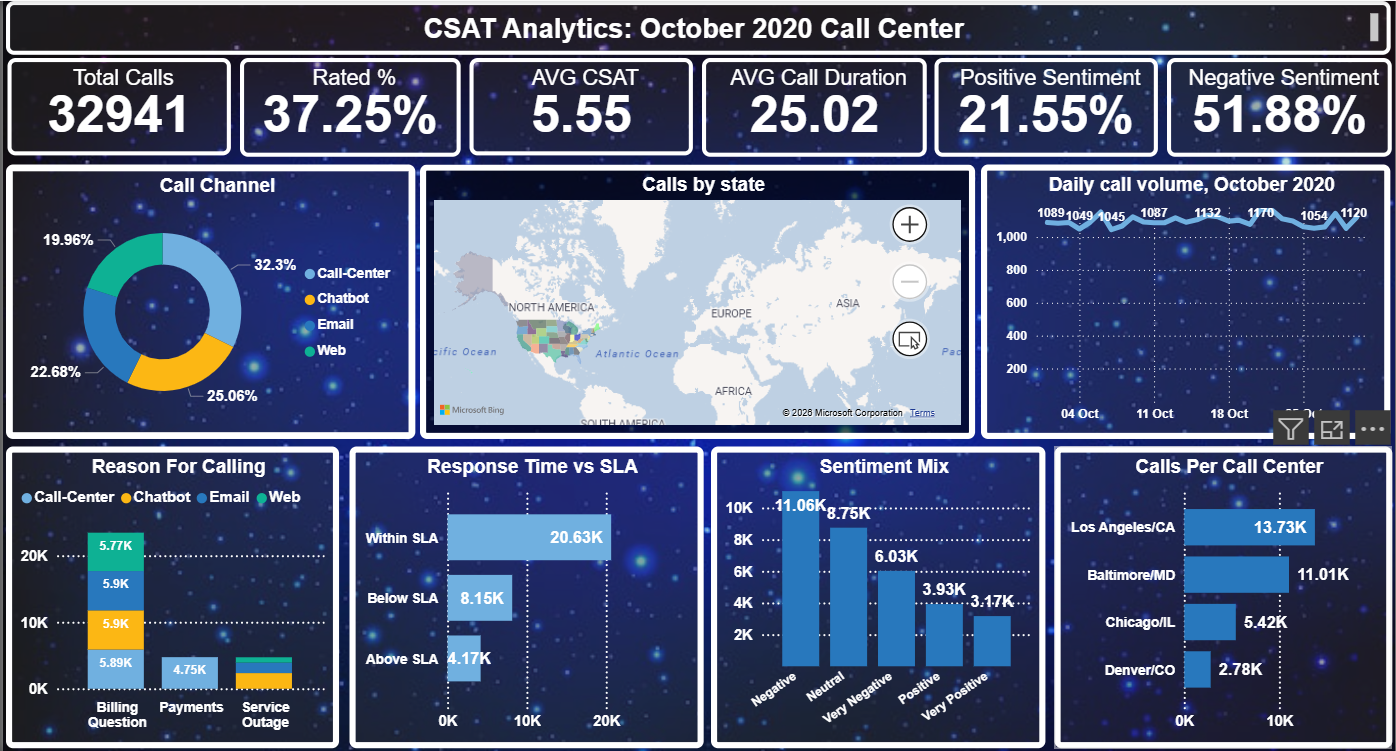

What the dashboard file says about the page in this screenshot:
{"tool":"powerbi","page":{"name":"CSAT Analytics: October 2020 Call Center","canvas":[1363,738],"ordinal":0},"visuals":[{"type":"donutChart","title":"Call Channel","fields":{"Category":["csat.channel"],"Y":["CountNonNull(csat.id)"]},"box":[2.9,160,400.8,268.7],"z":0},{"type":"filledMap","title":"Calls by state","fields":{"Category":["csat.state"],"Series":["csat.id"]},"box":[408.2,160,543.2,268.7],"z":1000},{"type":"columnChart","title":"Reason For Calling","fields":{"Category":["csat.reason"],"Y":["CountNonNull(csat.id)"],"Series":["csat.channel"]},"box":[2.9,436.1,325.9,295.1],"z":2000},{"type":"clusteredBarChart","title":"Response Time vs SLA","fields":{"Category":["csat.response_time"],"Y":["CountNonNull(csat.id)"]},"box":[339.2,436.1,346.5,295.1],"z":3000},{"type":"lineChart","title":"Daily call volume, October 2020","fields":{"Category":["csat.call_times"],"Y":["CountNonNull(csat.id)"]},"box":[957.3,160,400.8,268.7],"z":4000},{"type":"clusteredColumnChart","title":"Sentiment Mix","fields":{"Category":["csat.sentiment"],"Y":["CountNonNull(csat.id)"]},"box":[693,436.1,327.4,295.1],"z":5000},{"type":"clusteredBarChart","title":"Calls Per Call Center","fields":{"Category":["csat.call_center"],"Y":["CountNonNull(csat.id)"]},"box":[1029.2,436.1,330.3,295.1],"z":6000},{"type":"card","title":"Total Calls","fields":{"Values":["csat.Total Calls"]},"box":[4.4,55.8,218.8,95.4],"z":7000},{"type":"card","title":"Rated %","fields":{"Values":["csat.Rated %"]},"box":[232,55.8,215.8,96.9],"z":8000},{"type":"card","title":"AVG CSAT","fields":{"Values":["csat.Avg CSAT (rated)"]},"box":[456.6,55.8,218.8,95.4],"z":9000},{"type":"card","title":"AVG Call Duration ","fields":{"Values":["csat.Avg Call Duration"]},"box":[684.2,55.8,220.2,96.9],"z":10000},{"type":"card","title":"Positive Sentiment ","fields":{"Values":["csat.Positive %"]},"box":[911.8,55.8,218.8,96.9],"z":11000},{"type":"card","title":"Negative Sentiment ","fields":{"Values":["csat.Negative %"]},"box":[1139.3,55.8,220.2,96.9],"z":12000},{"type":"textbox","box":[2.9,0,1355.1,52.9],"z":13000}]}

Visuals, with their boxes in screenshot pixels (x1, y1, x2, y2), scaled from the page's 1363x738 canvas onto the 1396x751 screenshot:
"Call Channel" donutChart: 3,163,413,436
"Calls by state" filledMap: 418,163,974,436
"Reason For Calling" columnChart: 3,444,337,744
"Response Time vs SLA" clusteredBarChart: 347,444,702,744
"Daily call volume, October 2020" lineChart: 980,163,1391,436
"Sentiment Mix" clusteredColumnChart: 710,444,1045,744
"Calls Per Call Center" clusteredBarChart: 1054,444,1392,744
"Total Calls" card: 5,57,229,154
"Rated %" card: 238,57,459,155
"AVG CSAT" card: 468,57,692,154
"AVG Call Duration " card: 701,57,926,155
"Positive Sentiment " card: 934,57,1158,155
"Negative Sentiment " card: 1167,57,1392,155
textbox: 3,0,1391,54
